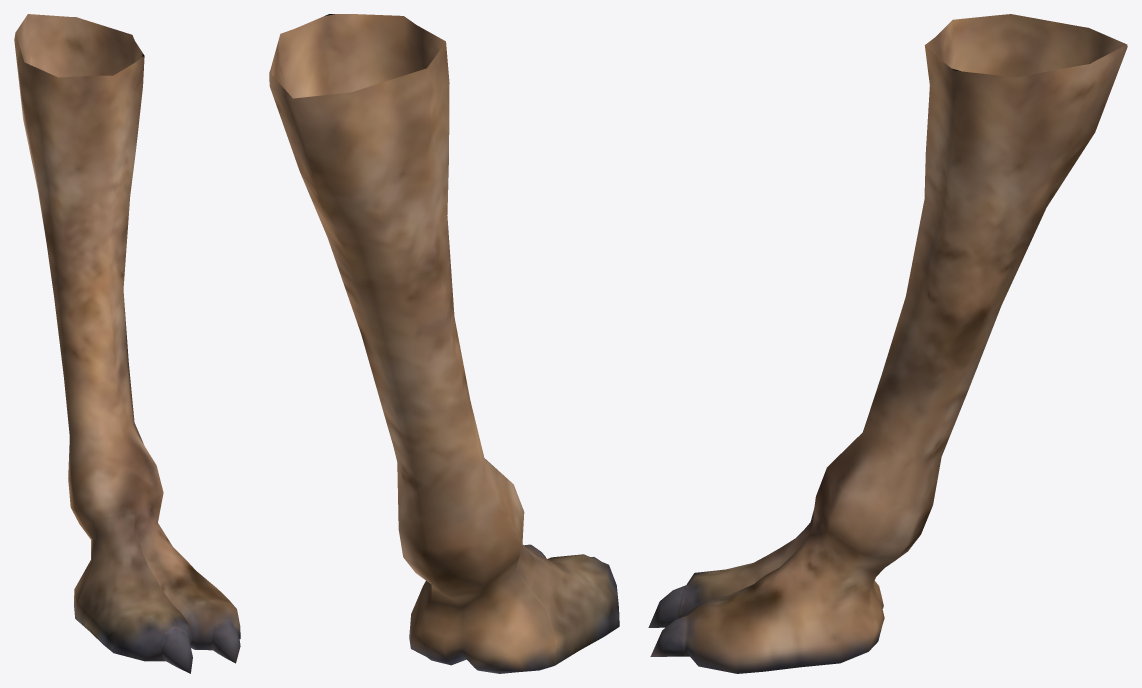
File: TL_Pata.obj
The picture shows the model from 3 angles, left to right: view 1: azimuth 30°, elevation 25°; view 2: azimuth 150°, elevation 25°; view 3: azimuth 270°, elevation 25°; orthographic projection. The views are drawn at different scales.
Visible parts, largest first — view 1: TL_Pata; view 2: TL_Pata; view 3: TL_Pata.
Part boxes in pixels (x1=…): TL_Pata: x1=14, y1=14, x2=240, y2=673; TL_Pata: x1=269, y1=14, x2=619, y2=673; TL_Pata: x1=648, y1=14, x2=1127, y2=673.
Bounding box in the file's own units: 0.1594 × 0.5655 × 0.403.
